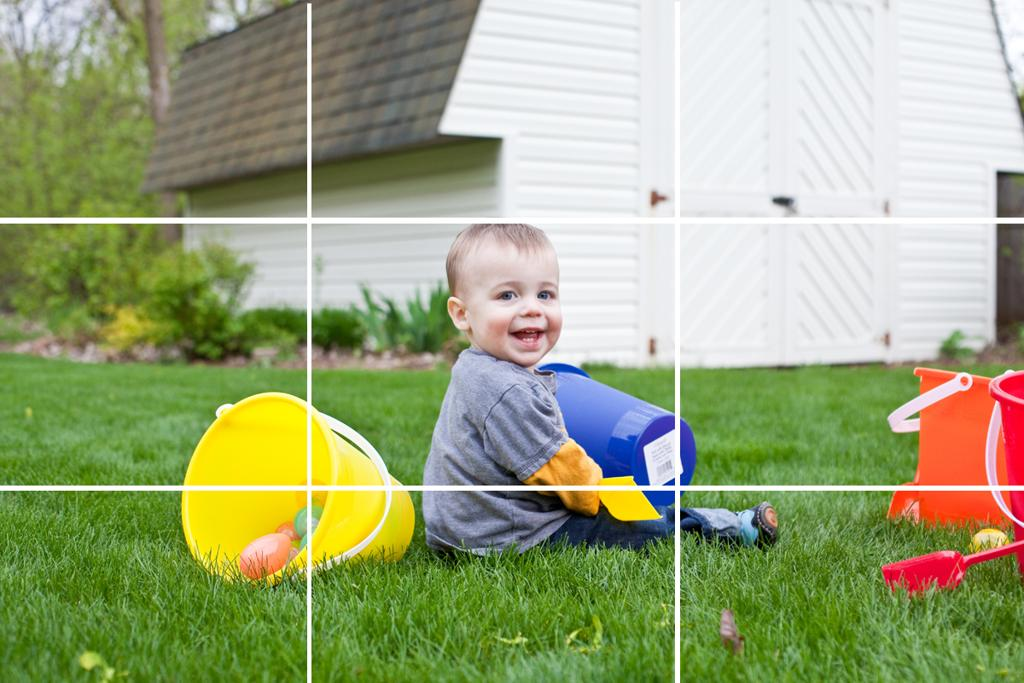face: (470, 234, 560, 366)
